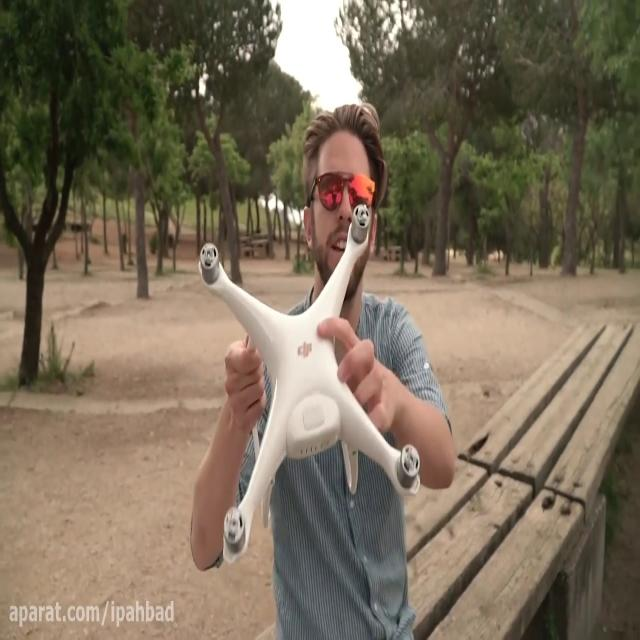drone: (197, 200, 422, 565)
